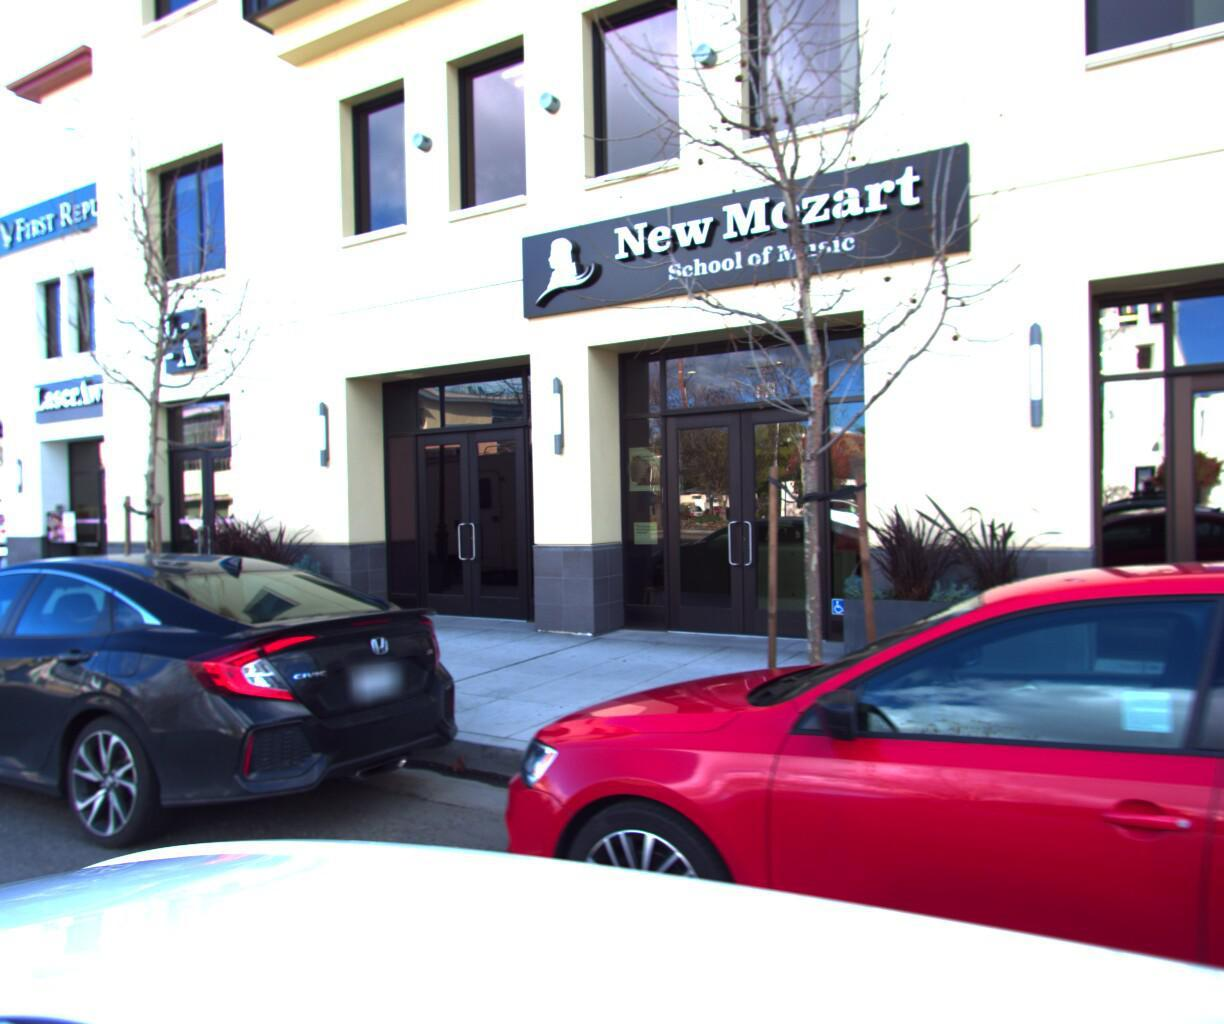car: (379, 527, 1224, 1024), (0, 540, 498, 908)
other_vehicle: (0, 328, 40, 755)
